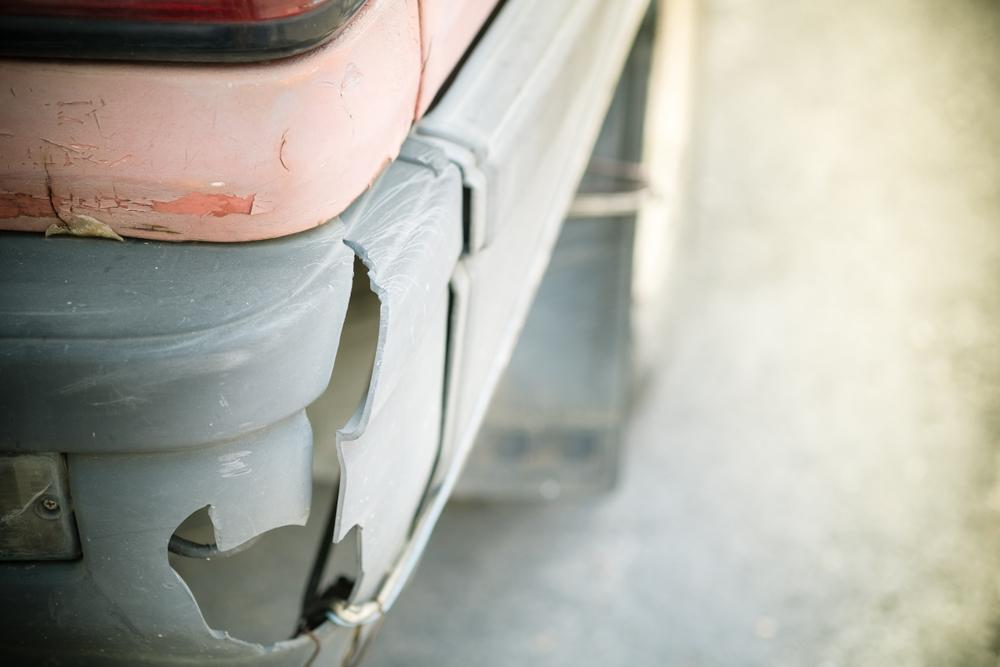crack: (162, 242, 383, 652)
